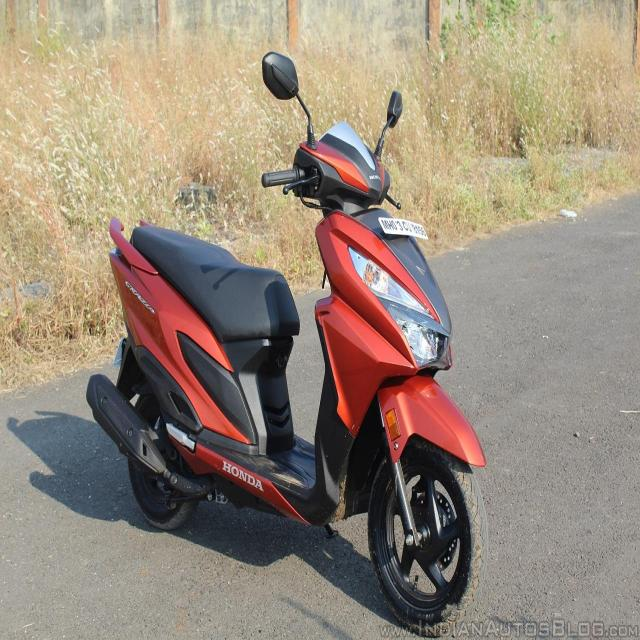motorcycle: (86, 53, 488, 634)
